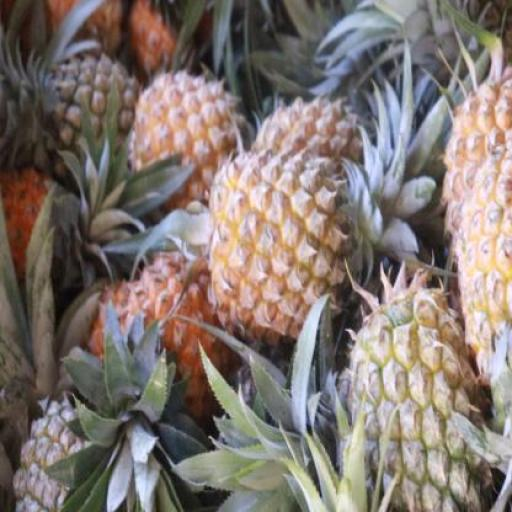------------------------------: (340, 291, 487, 512)
Pineapple - v8 v1: (205, 150, 345, 342), (118, 241, 227, 447), (124, 70, 242, 198), (451, 176, 512, 400)
